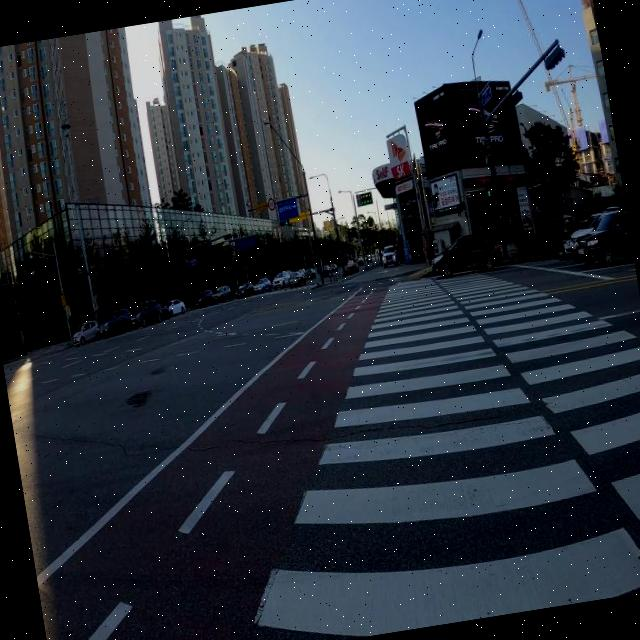crosswalk: (246, 269, 640, 640), (185, 281, 328, 313)
